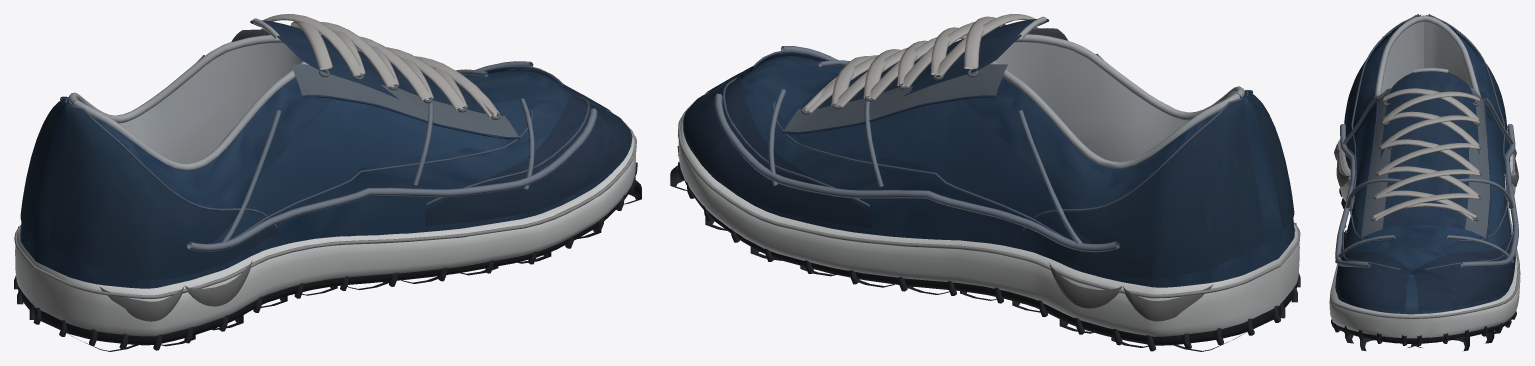
The model's file is 06-navy-grey.glb.
3 views of the same model, side by side, from view 1: azimuth 30°, elevation 25°; view 2: azimuth 150°, elevation 25°; view 3: azimuth 270°, elevation 25° (orthographic). The views are drawn at different scales.
Parts seen in each view (by area): view 1: outsole; view 2: outsole; view 3: outsole.
Boxes of the visible parts, left/top/right/bottom form: outsole: left=14, top=14, right=641, bottom=351; outsole: left=670, top=14, right=1300, bottom=351; outsole: left=1329, top=14, right=1520, bottom=350.
Bounding box in the file's own units: 0.2886 × 0.1182 × 0.1105.
